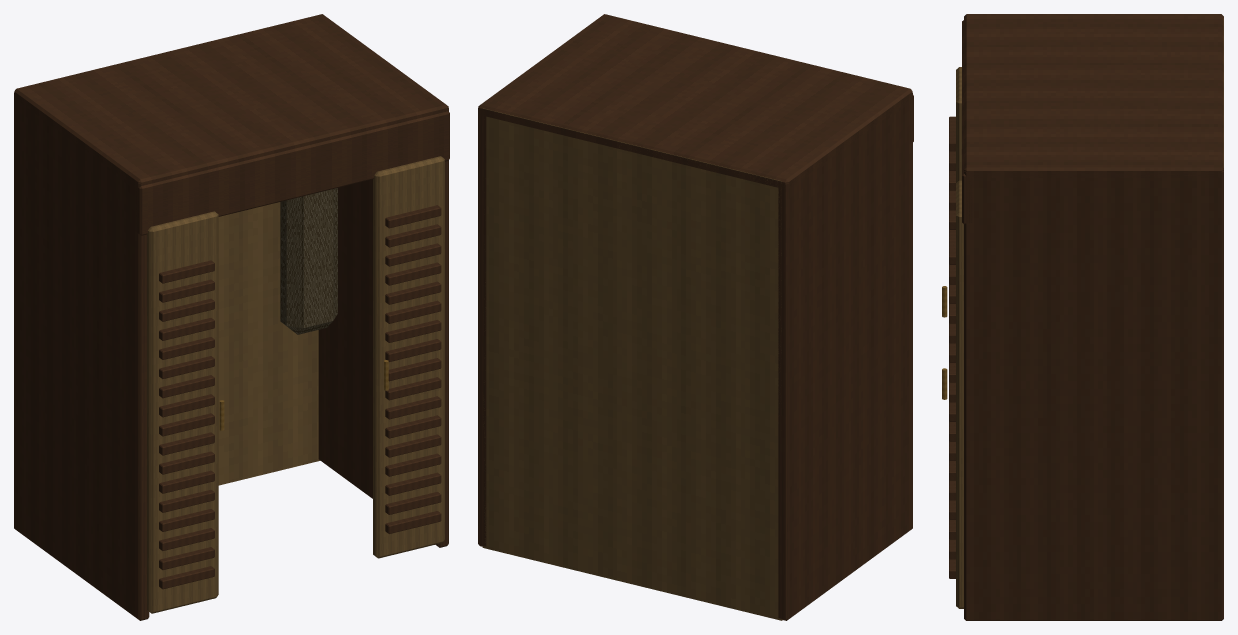
File: level_hiding_cupboard.glb
3 renders of one model, left to right at view 1: azimuth 30°, elevation 25°; view 2: azimuth 150°, elevation 25°; view 3: azimuth 270°, elevation 25°, orthographic. The views are drawn at different scales.
Parts seen in each view (by area): view 1: level_hiding_cupboard; view 2: level_hiding_cupboard; view 3: level_hiding_cupboard.
Boxes of the visible parts, x1,y1,x2,y2 form: level_hiding_cupboard: (14, 14, 449, 620); level_hiding_cupboard: (478, 14, 913, 620); level_hiding_cupboard: (942, 14, 1223, 620).
Bounding box in the file's own units: 1.7 × 2.31 × 1.3.
Materials: 5 (5 with a texture image).
